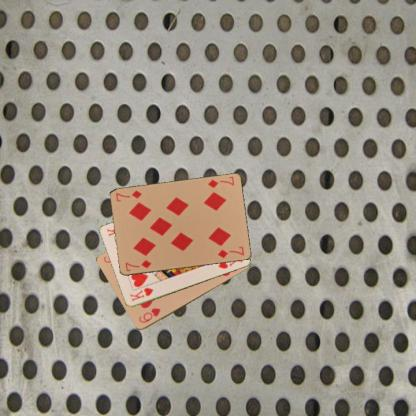6h: (136, 306, 162, 324)
7d: (122, 257, 152, 273), (205, 174, 235, 189)
Kh: (127, 285, 155, 303)
